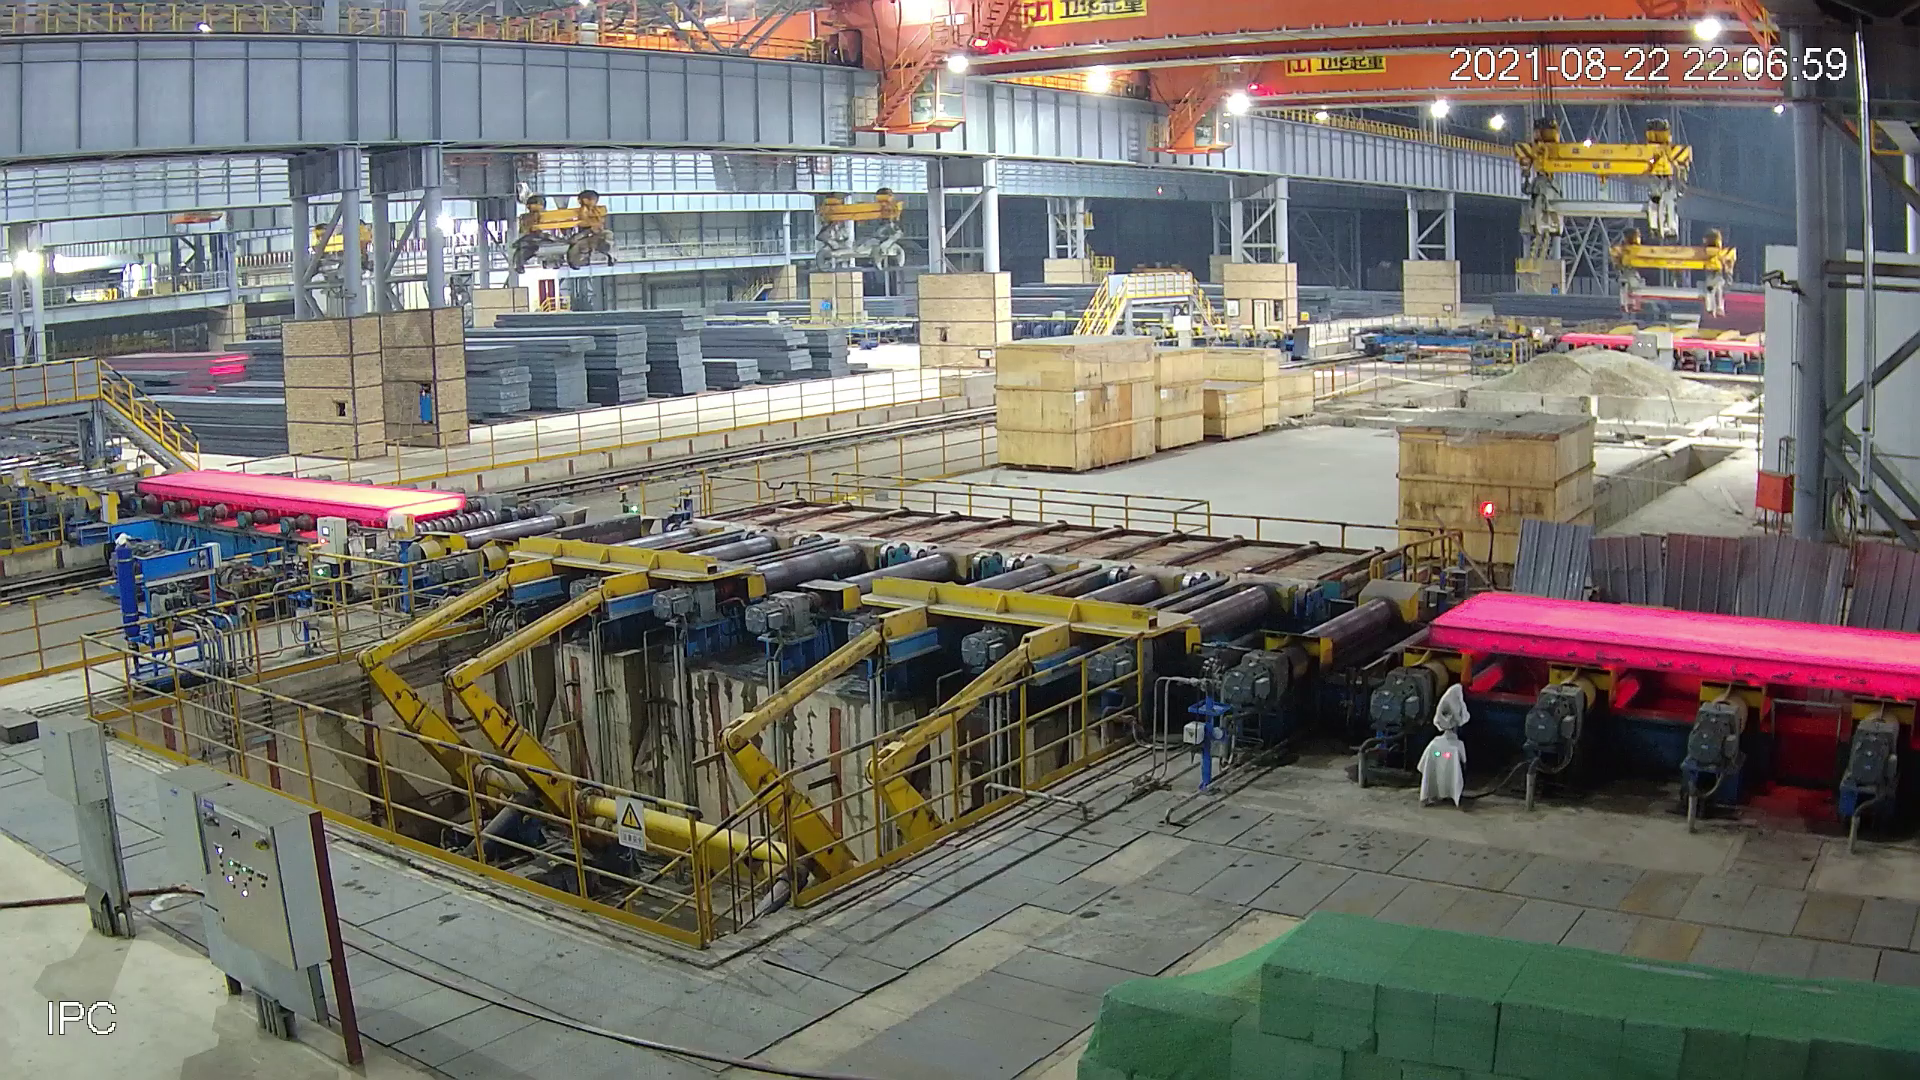slab: (1425, 589, 1920, 699), (138, 469, 469, 524)
